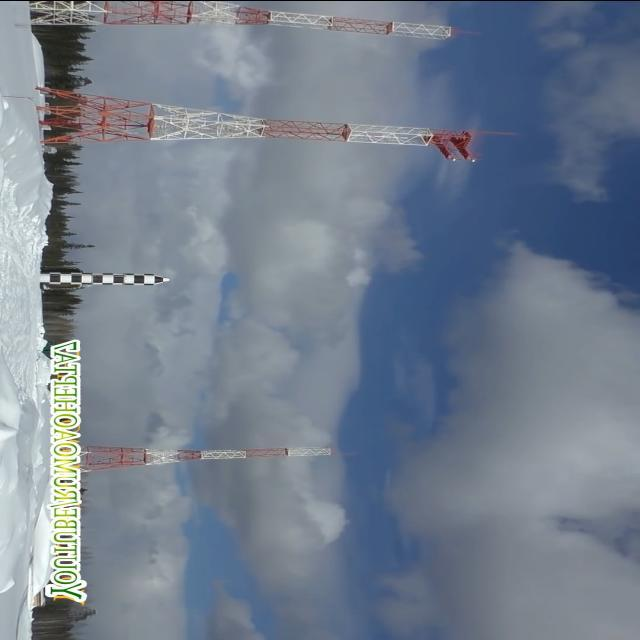Missile: (39, 271, 180, 285)
